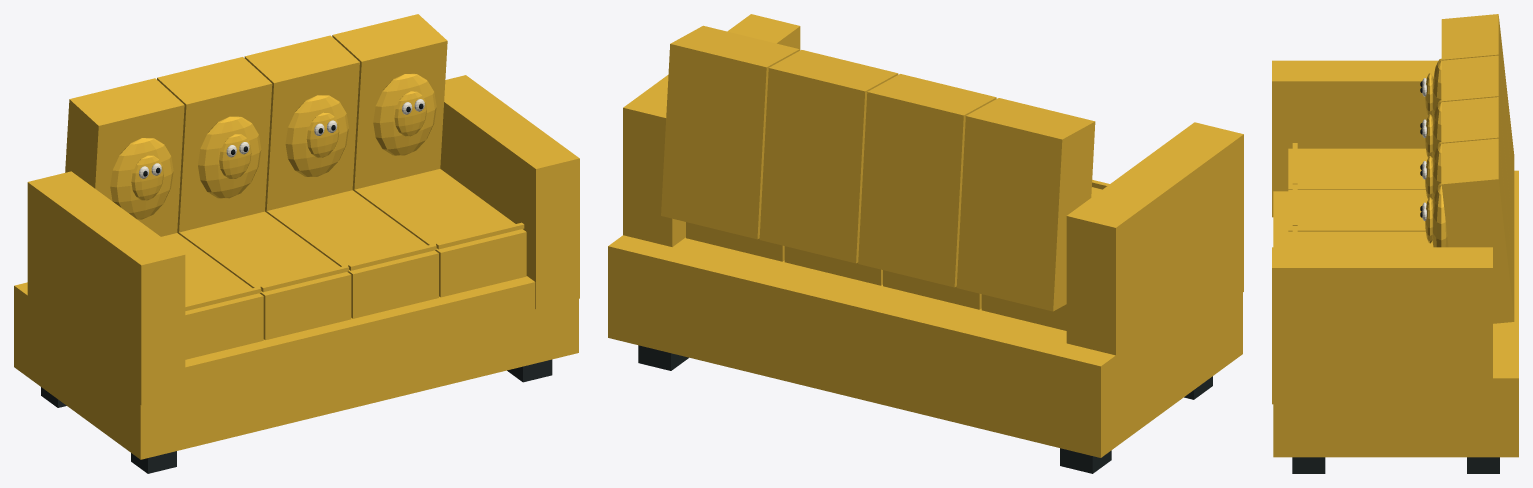
The model's file is good.glb.
3 views of the same model, side by side, from view 1: azimuth 30°, elevation 25°; view 2: azimuth 150°, elevation 25°; view 3: azimuth 270°, elevation 25° (orthographic). The views are drawn at different scales.
Parts seen in each view (by area): view 1: Armrest, Sofa foot, Eyes; view 2: Armrest, Sofa foot; view 3: Armrest, Sofa foot, Eyes.
Part boxes in pixels (x1,y1,x2,y2): Armrest: [14, 14, 579, 459]; Sofa foot: [41, 359, 552, 473]; Eyes: [139, 99, 424, 178]; Armrest: [608, 14, 1243, 457]; Sofa foot: [638, 345, 1212, 473]; Armrest: [1272, 14, 1518, 457]; Sofa foot: [1292, 457, 1499, 473]; Eyes: [1422, 78, 1426, 220].
Size of the model in its own units: 1 by 0.6328 by 0.5028.
